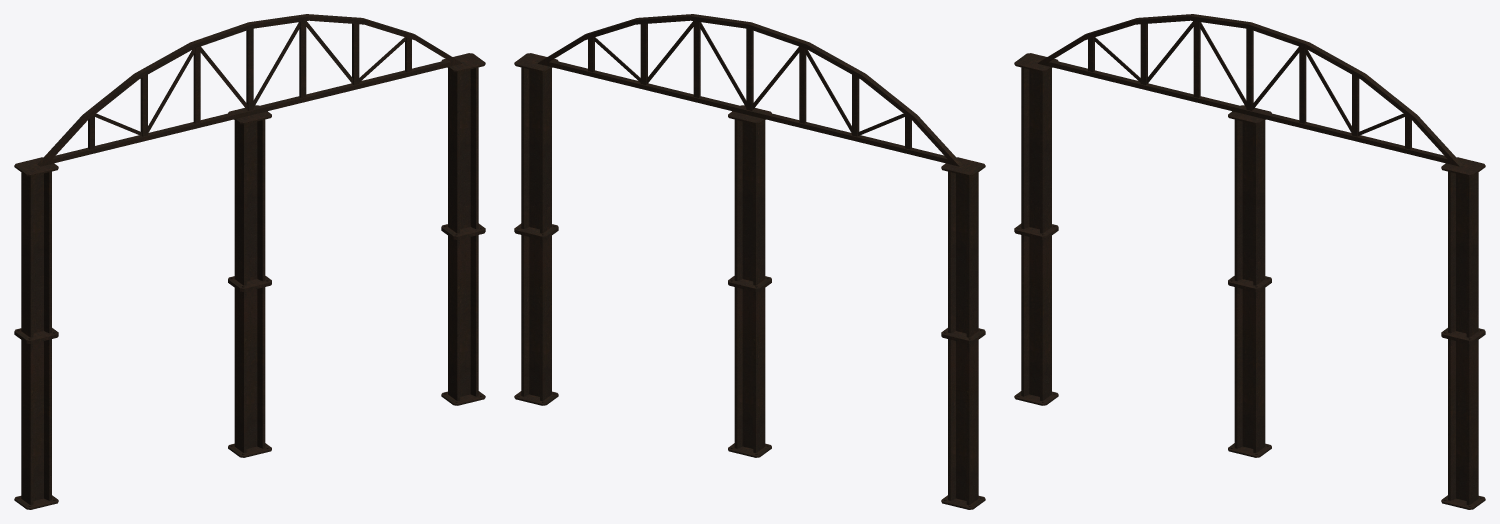
The model's file is warehouse_hl_1_frame_piece.glb.
3 renders of one model, left to right at view 1: azimuth 30°, elevation 25°; view 2: azimuth 150°, elevation 25°; view 3: azimuth 330°, elevation 25°, orthographic.
Visible parts, largest first — view 1: warehouse_hl_1_frame_piece; view 2: warehouse_hl_1_frame_piece; view 3: warehouse_hl_1_frame_piece.
Boxes of the visible parts, x1,y1,x2,y2 form: warehouse_hl_1_frame_piece: (14, 14, 485, 509); warehouse_hl_1_frame_piece: (514, 14, 985, 509); warehouse_hl_1_frame_piece: (1014, 14, 1485, 509).
Bounding box in the file's own units: 8.6 × 7.62 × 0.5.
Materials: 1 (1 with a texture image).
